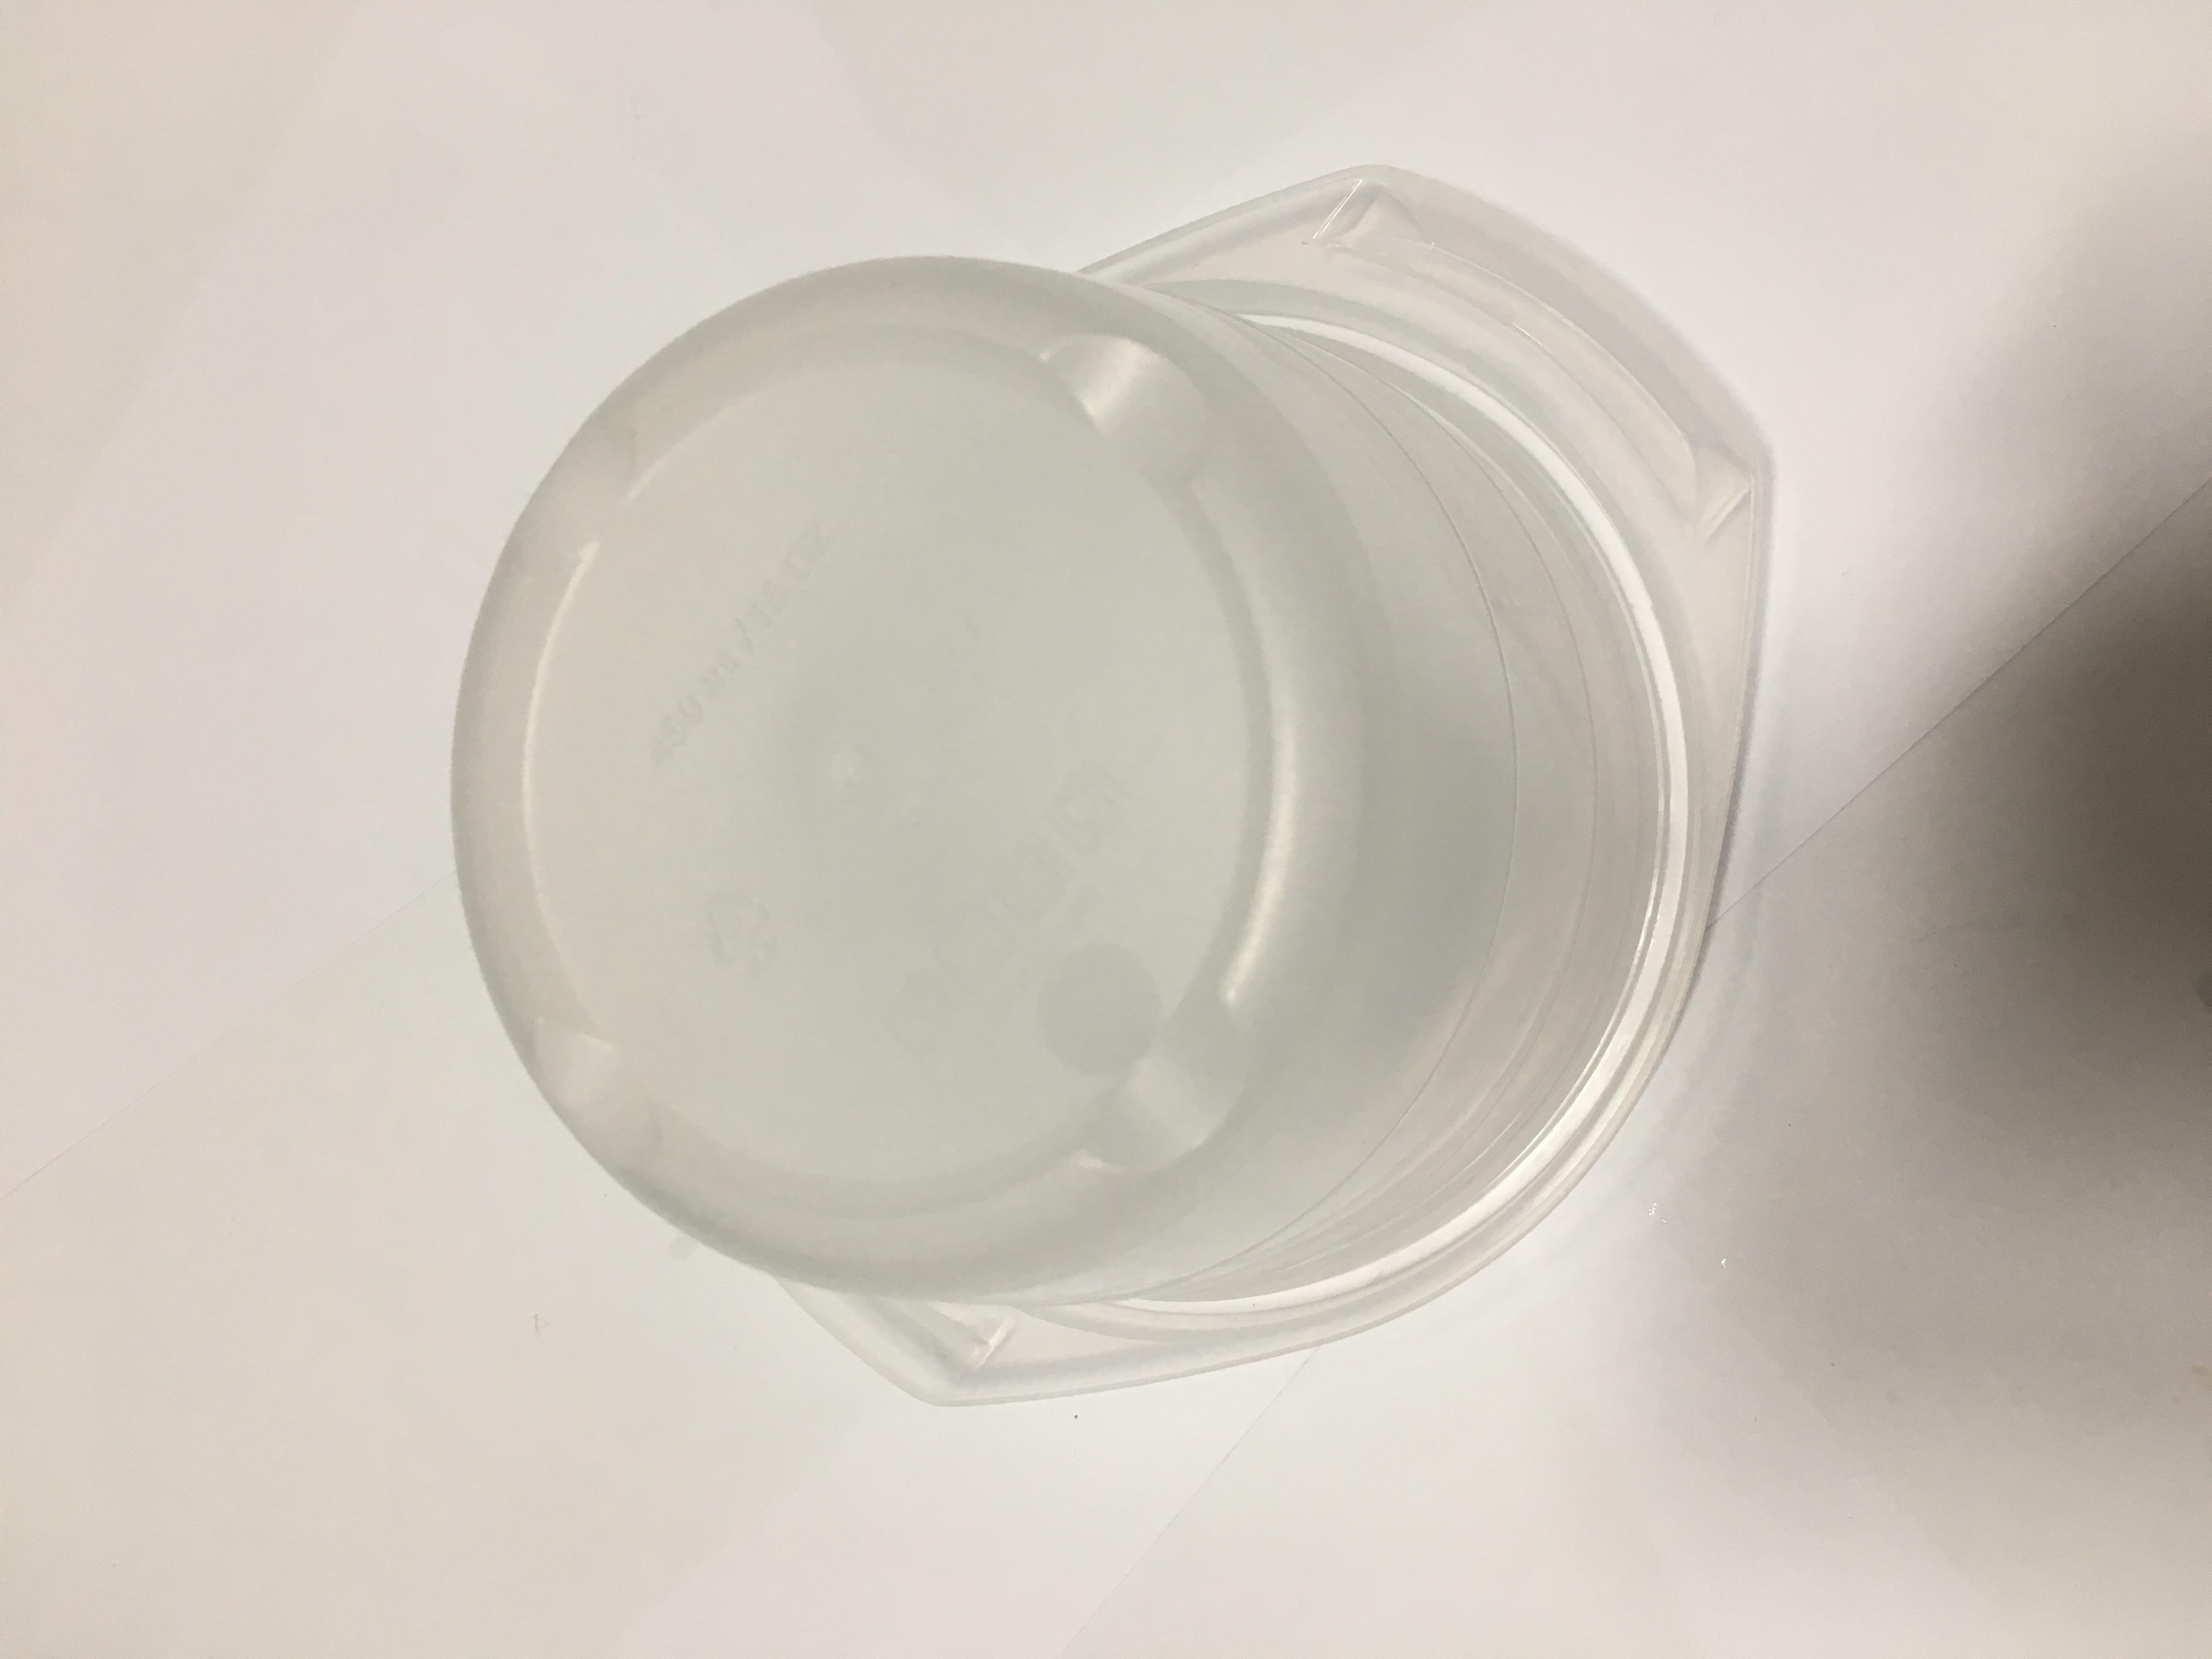bottle: (1170, 329, 1275, 1316)
